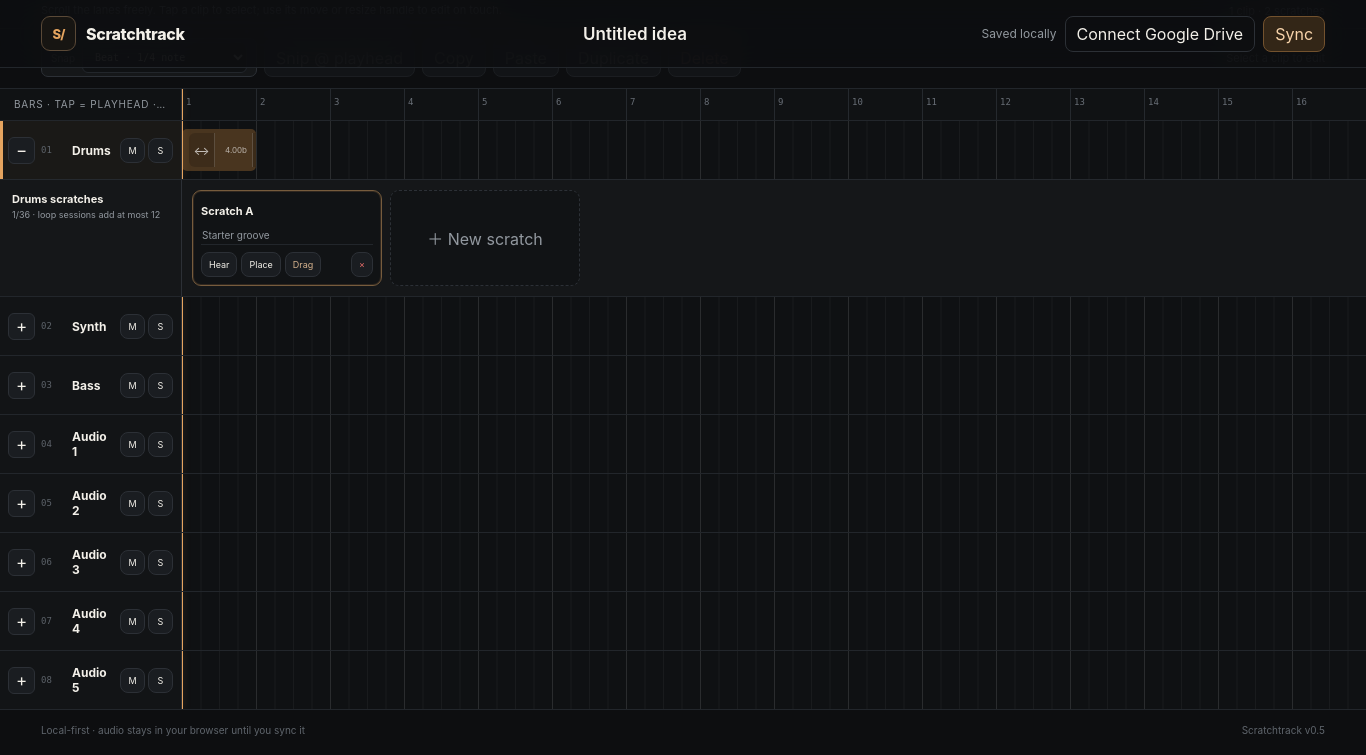
Test case: app shell › shows the multi-stage compression toggle on audio tracks
(page scrolled)
Click the text "Audio 1" at [89, 444], box top-left (72, 429), bottom-right (107, 459)
(page scrolled)
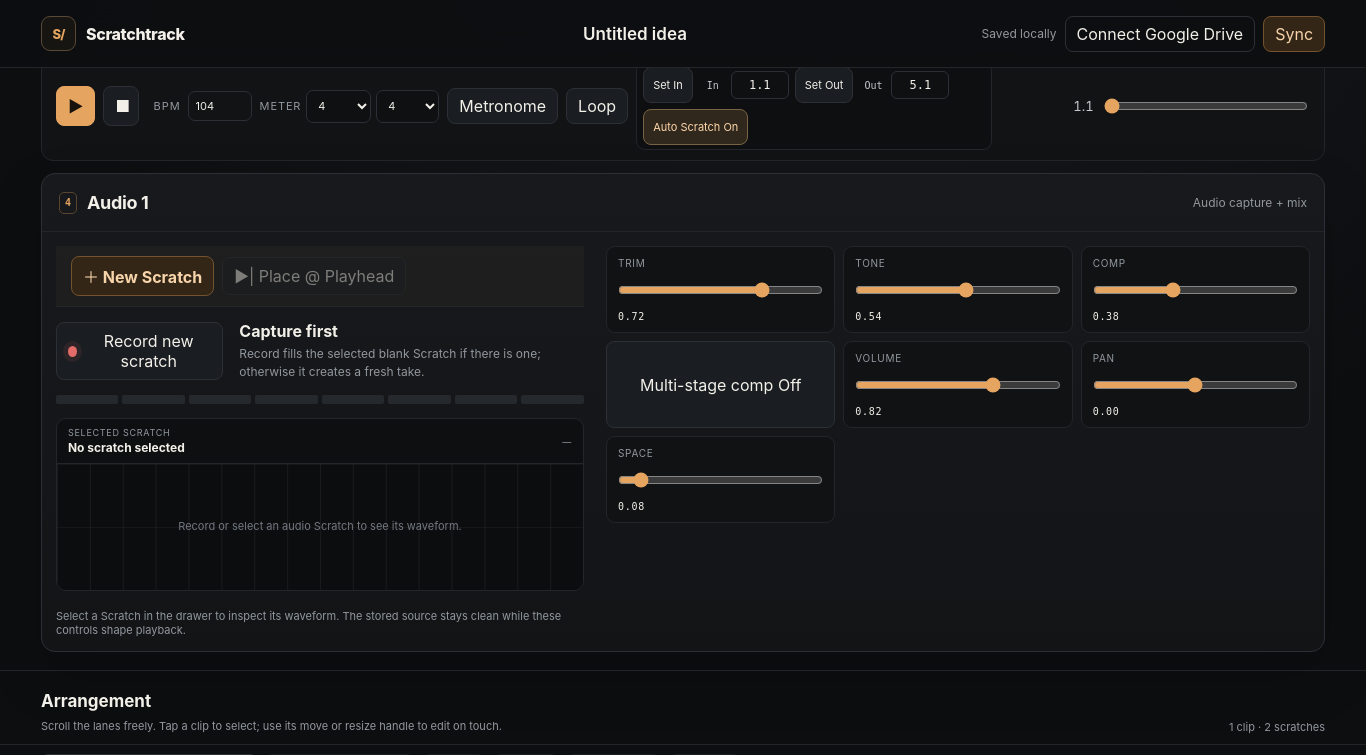
Now the button "Multi-stage comp Off" is shown
Click the button "Multi-stage comp Off" at [721, 384], box top-left (606, 341), bottom-right (835, 428)
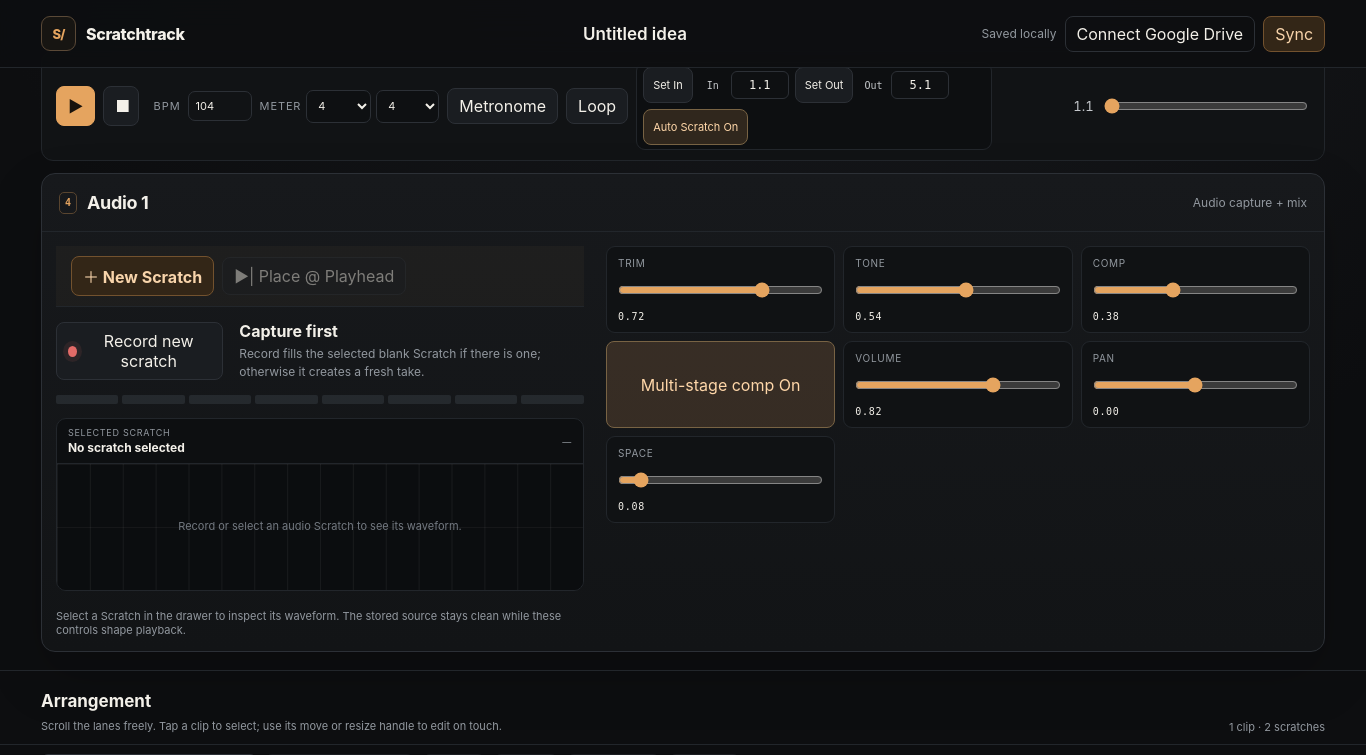
Now the button "Multi-stage comp On" is shown, box top-left (606, 341), bottom-right (835, 428)
